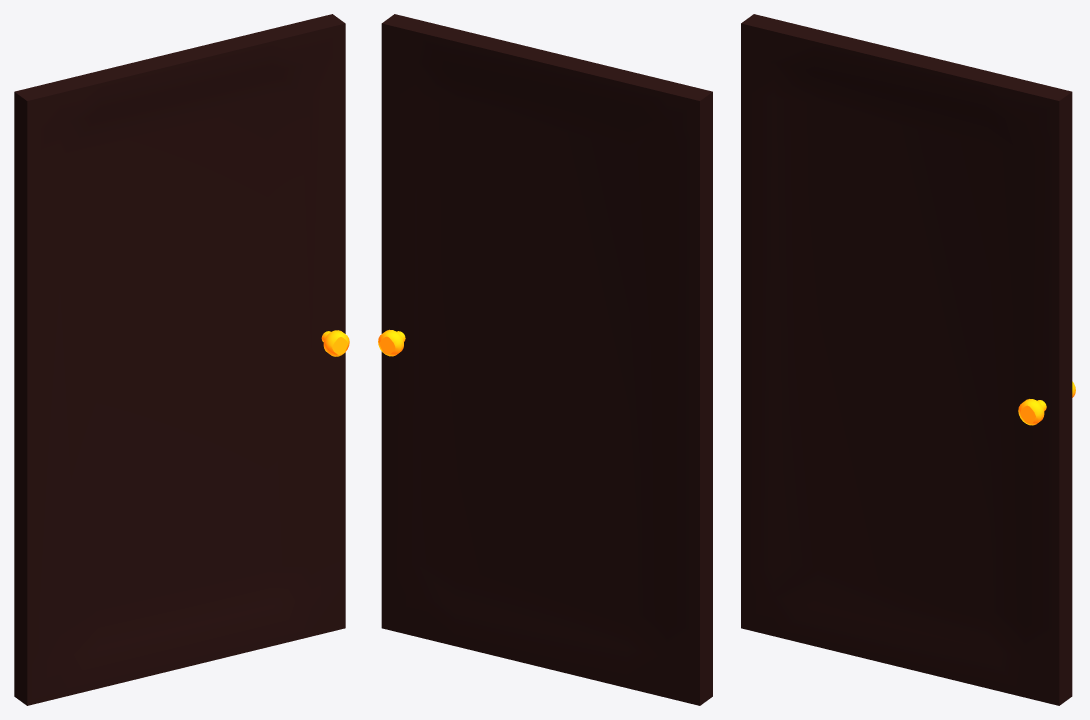
File: Door.fbx
3 renders of one model, left to right at view 1: azimuth 30°, elevation 25°; view 2: azimuth 150°, elevation 25°; view 3: azimuth 330°, elevation 25°, orthographic.
Parts seen in each view (by area): view 1: pCube16, pCube19; view 2: pCube16, pCube19; view 3: pCube16, pCube19.
Boxes of the visible parts, x1,y1,x2,y2 form: pCube16: (14, 14, 345, 705); pCube19: (321, 330, 349, 356); pCube16: (381, 14, 712, 705); pCube19: (378, 329, 405, 356); pCube16: (741, 14, 1072, 705); pCube19: (1018, 381, 1075, 425).
Bounding box in the file's own units: 2.84 × 5.16 × 0.5949.
